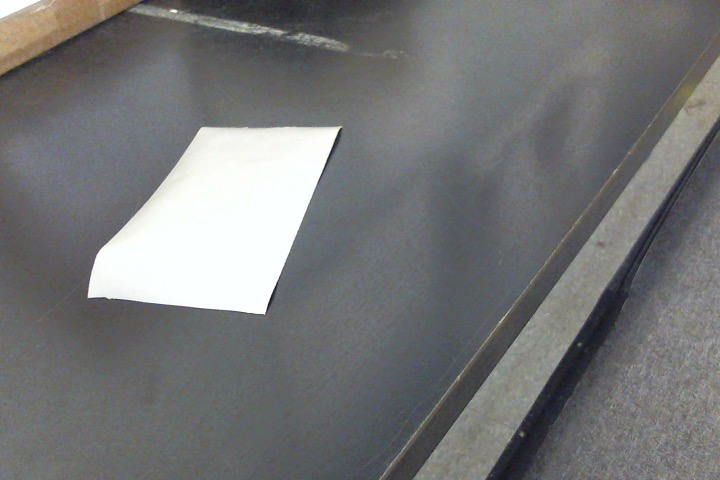Tape: (88, 126, 344, 315)
